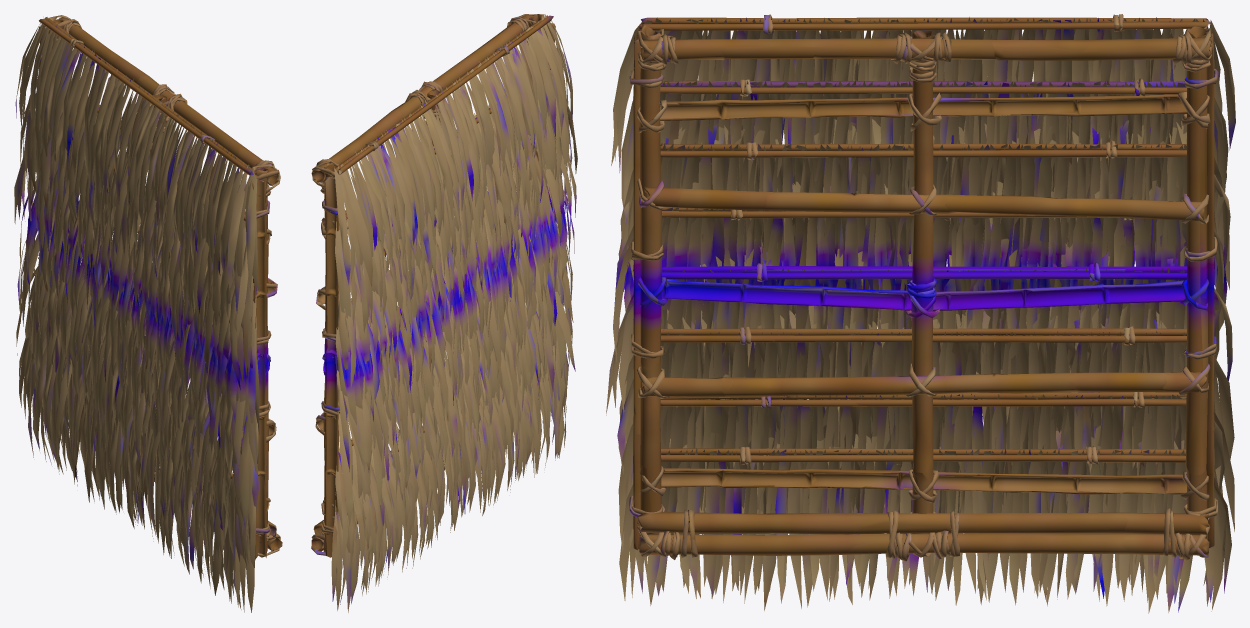
Rendered from Thatch_Wall_Small_C.glb.
The picture shows the model from 3 angles, left to right: view 1: azimuth 30°, elevation 25°; view 2: azimuth 150°, elevation 25°; view 3: azimuth 270°, elevation 25°; orthographic projection. The views are drawn at different scales.
Visible parts, largest first — view 1: SM_Thatch_WallSquare; view 2: SM_Thatch_WallSquare; view 3: SM_Thatch_WallSquare.
Part boxes in pixels (bbox=[...]): SM_Thatch_WallSquare: bbox=[14, 15, 282, 612]; SM_Thatch_WallSquare: bbox=[311, 14, 577, 612]; SM_Thatch_WallSquare: bbox=[606, 14, 1235, 613].
Bounding box in the file's own units: 0.5032 × 3.5 × 3.33.
Materials: 1 (1 with a texture image).
